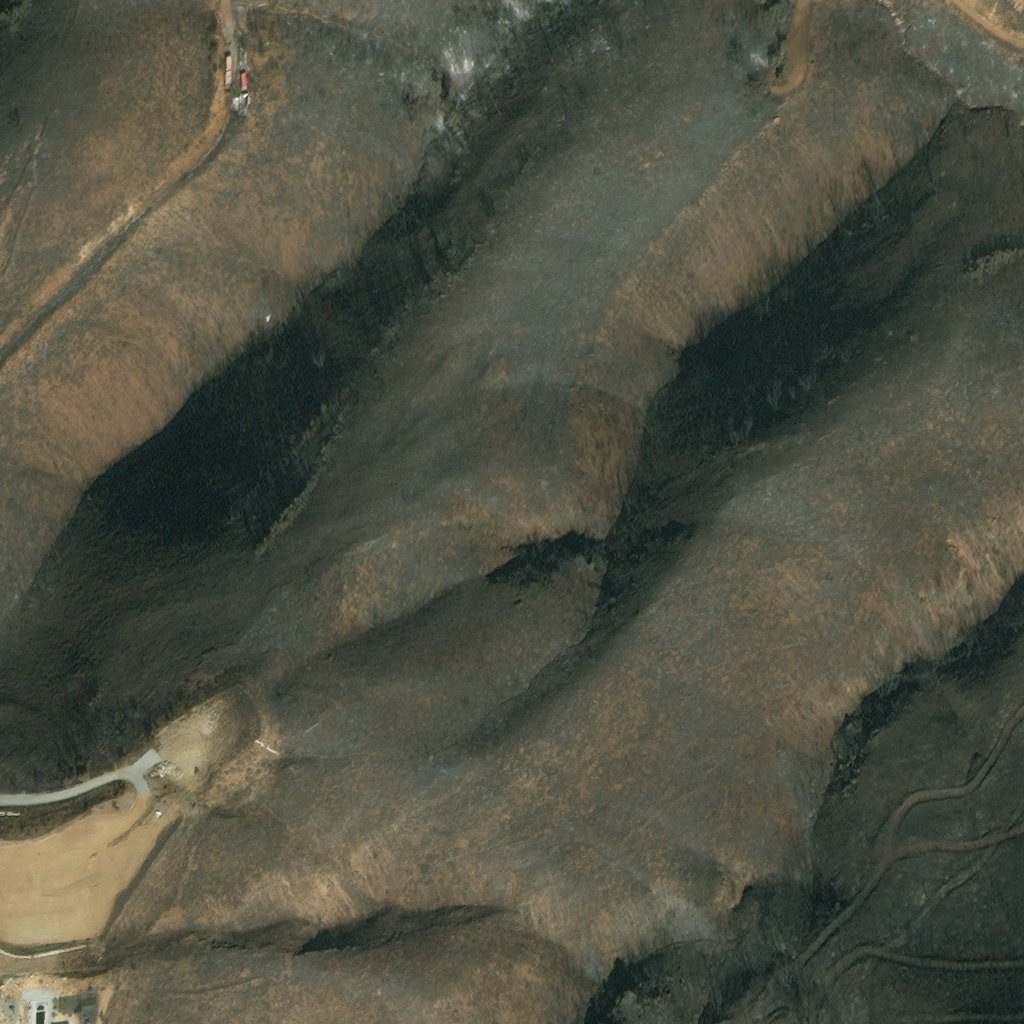0 no-damage: (238, 56, 249, 79), (224, 59, 230, 74), (224, 74, 230, 89)
3 destroyed: (237, 98, 250, 116)
